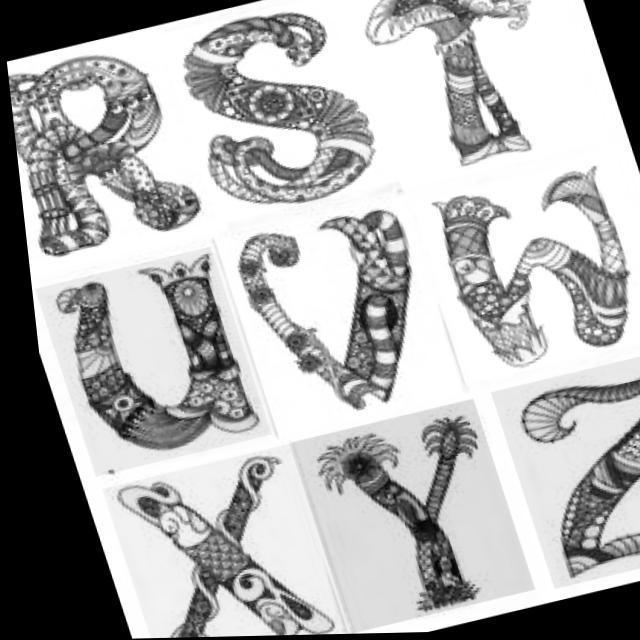S: (180, 13, 382, 203)
V: (239, 213, 411, 412)
Y: (317, 412, 500, 608)
